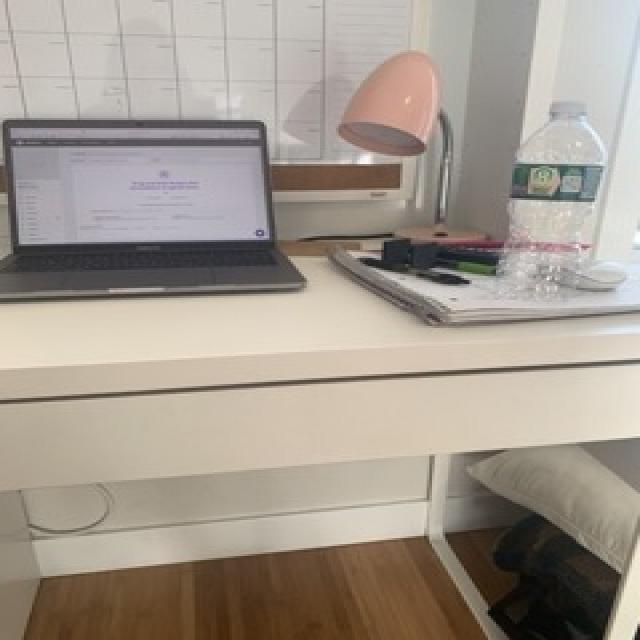water_bottle: (487, 97, 610, 309)
